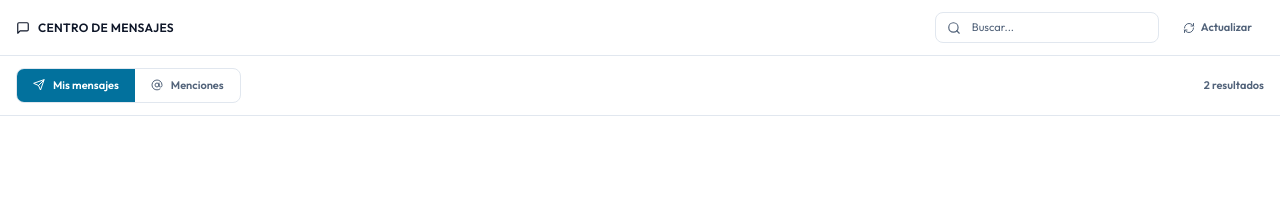
ChatAdminPage › renders mention count on messages with mentions
Step 1. Click the button "Menciones" → [187, 85], box top-left (135, 69), bottom-right (240, 102)
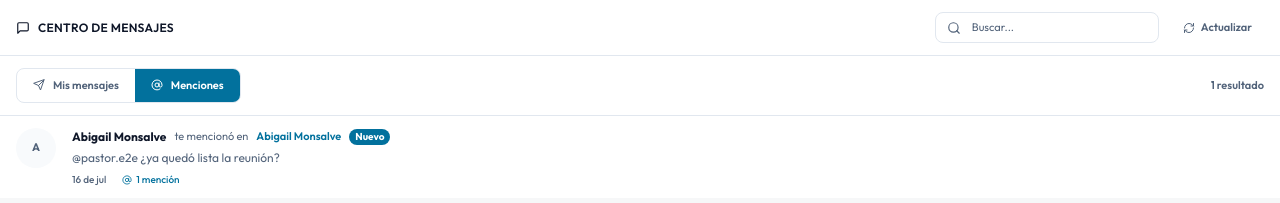
Expected: the text "1 mención" is shown, top-left (122, 174), bottom-right (180, 186)
